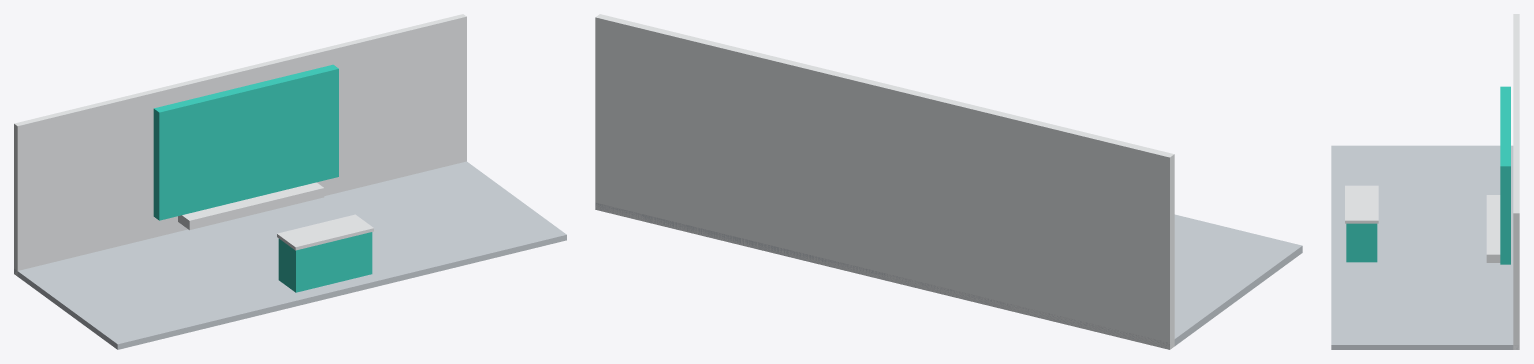
3 views of the same model, side by side, from view 1: azimuth 30°, elevation 25°; view 2: azimuth 150°, elevation 25°; view 3: azimuth 270°, elevation 25° (orthographic). The views are drawn at different scales.
Parts seen in each view (by area): view 1: Exhibition Booth Concept; view 2: Exhibition Booth Concept; view 3: Exhibition Booth Concept.
Boxes of the visible parts, x1,y1,x2,y2 form: Exhibition Booth Concept: (14,14,566,349); Exhibition Booth Concept: (595,14,1302,349); Exhibition Booth Concept: (1331,14,1519,349).
Bounding box in the file's own units: 10 × 3.2 × 4.
